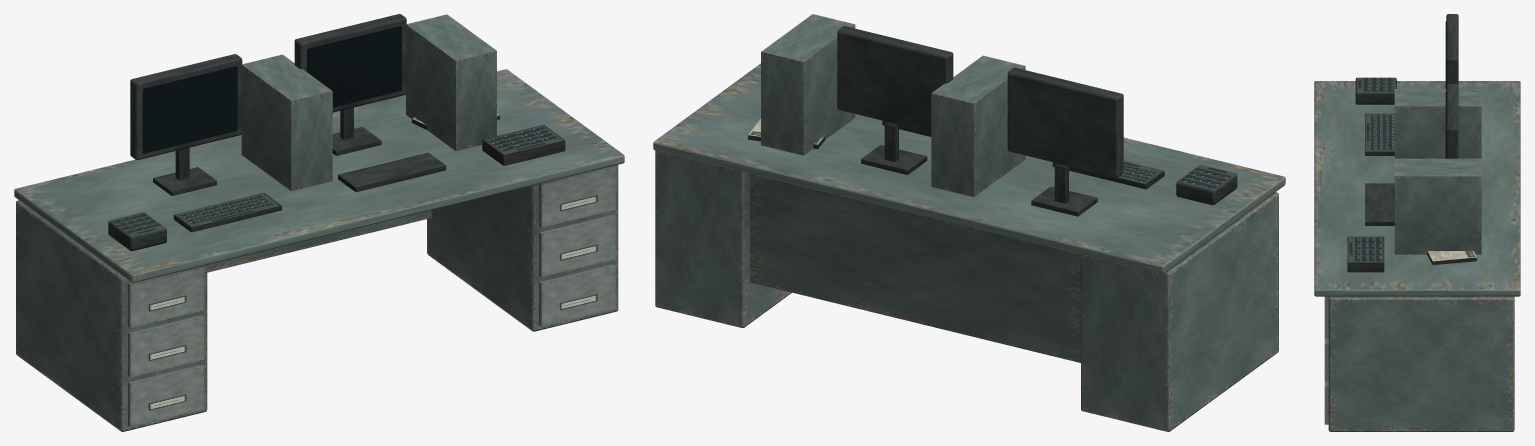
File: guard_desk.glb
3 views of the same model, side by side, from view 1: azimuth 30°, elevation 25°; view 2: azimuth 150°, elevation 25°; view 3: azimuth 270°, elevation 25° (orthographic). The views are drawn at different scales.
Parts seen in each view (by area): view 1: GuardDesk; view 2: GuardDesk; view 3: GuardDesk.
Boxes of the visible parts, x1,y1,x2,y2 form: GuardDesk: (14,14,624,431); GuardDesk: (653,14,1285,431); GuardDesk: (1314,14,1520,431).
Size of the model in its own units: 2.42 by 1.3 by 1.
2 materials, 1 textured.
